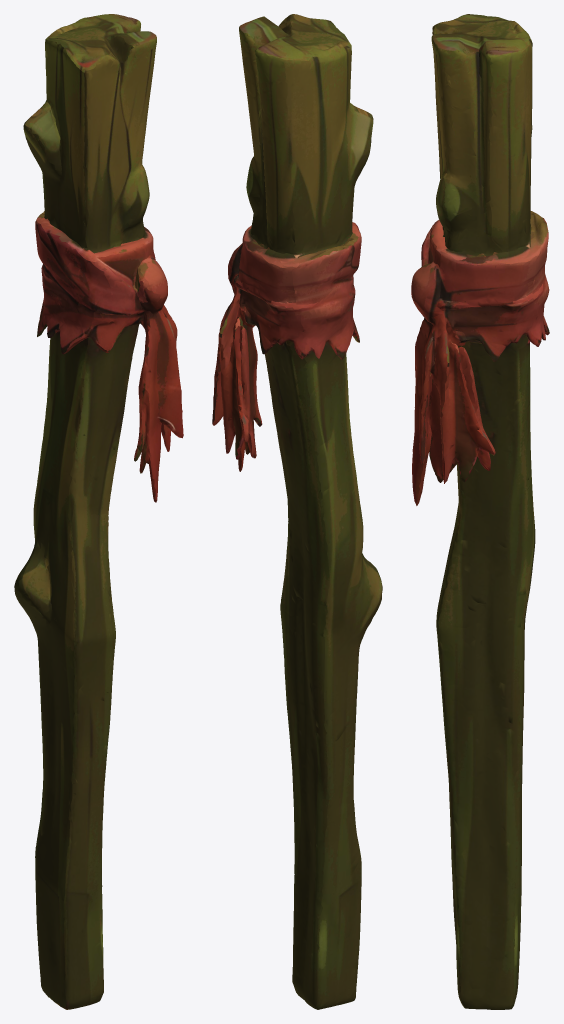
Rendered from struct_stake.glb.
3 renders of one model, left to right at view 1: azimuth 30°, elevation 25°; view 2: azimuth 210°, elevation 25°; view 3: azimuth 270°, elevation 25°, orthographic. The views are drawn at different scales.
Parts seen in each view (by area): view 1: struct_stake; view 2: struct_stake; view 3: struct_stake.
Boxes of the visible parts, x1=… form: struct_stake: x1=14, y1=14, x2=183, y2=1009; struct_stake: x1=212, y1=14, x2=382, y2=1009; struct_stake: x1=411, y1=14, x2=549, y2=1009.
Size of the model in its own units: 0.1686 by 1.2 by 0.1532.
Materials: 1 (1 with a texture image).
